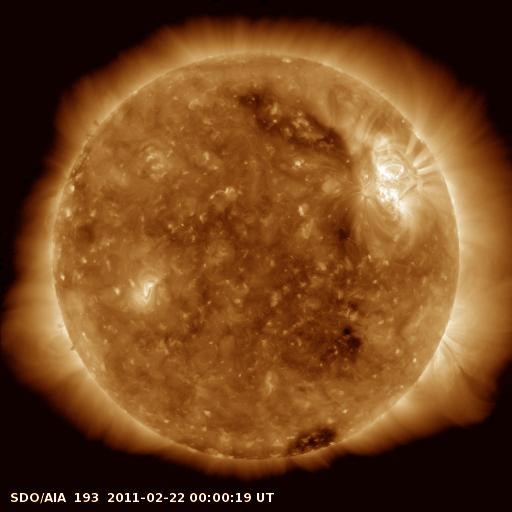coronal_hole: (276, 421, 344, 465)
